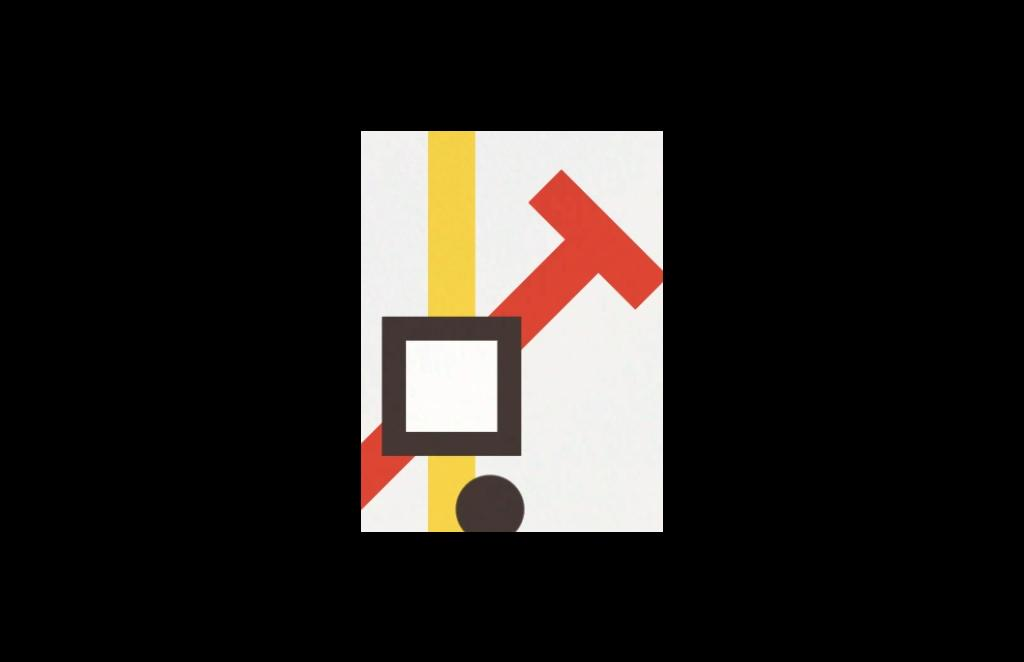connected_station: (372, 304, 537, 465)
line_endpoint: (528, 155, 661, 325)
